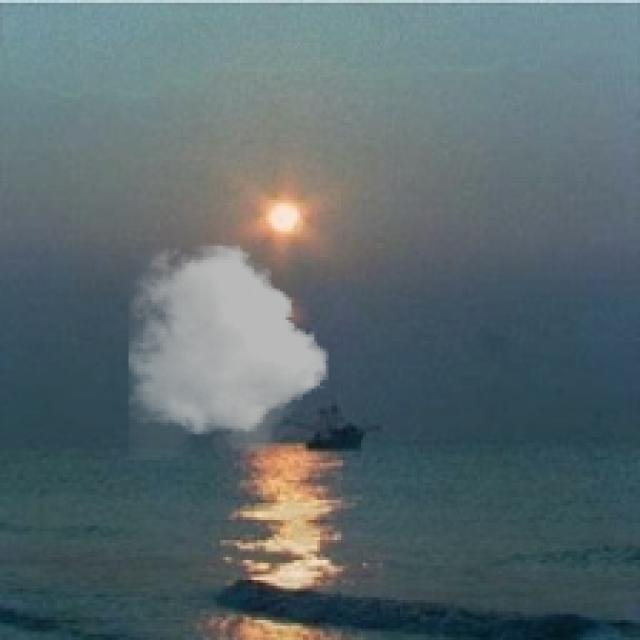smoke: (128, 240, 328, 460)
